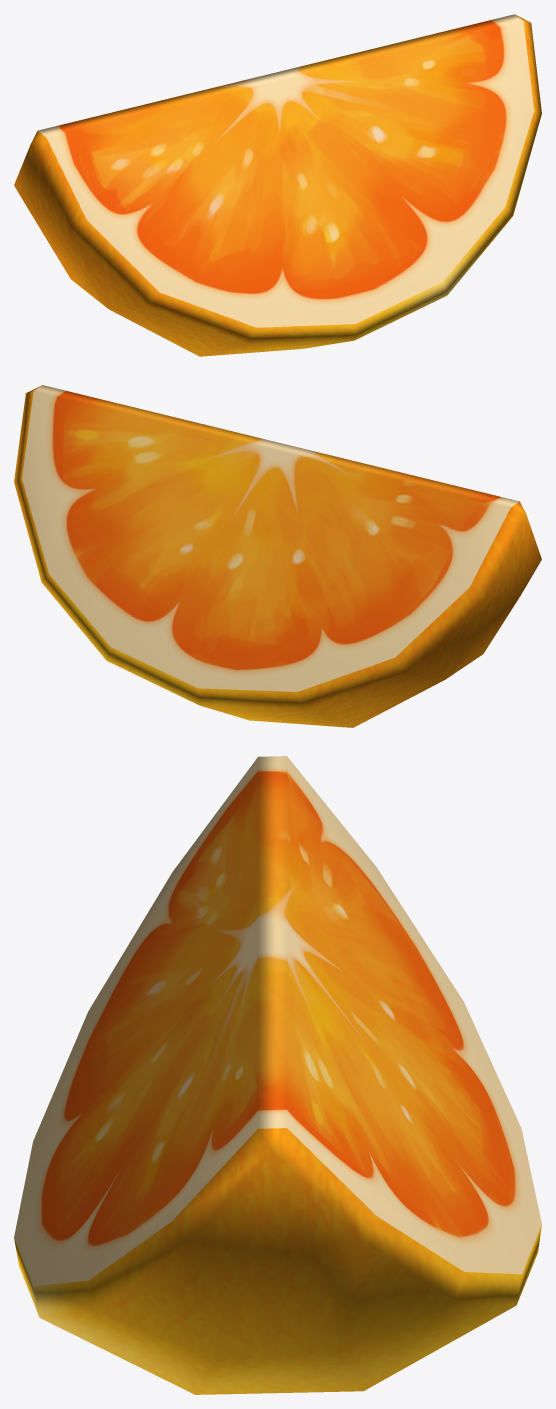
Rendered from Orange_Quarter.fbx.
3 views of the same model, one above another, from view 1: azimuth 30°, elevation 25°; view 2: azimuth 150°, elevation 25°; view 3: azimuth 270°, elevation 25° (orthographic). The views are drawn at different scales.
Visible parts, largest first — view 1: Orange_Quarter; view 2: Orange_Quarter; view 3: Orange_Quarter.
Boxes of the visible parts, x1,y1,x2,y2 form: Orange_Quarter: [14, 14, 541, 356]; Orange_Quarter: [14, 385, 541, 727]; Orange_Quarter: [14, 756, 541, 1394].
Size of the model in its own units: 28.2 by 13.53 by 16.13.
Materials: 1 (1 with a texture image).
